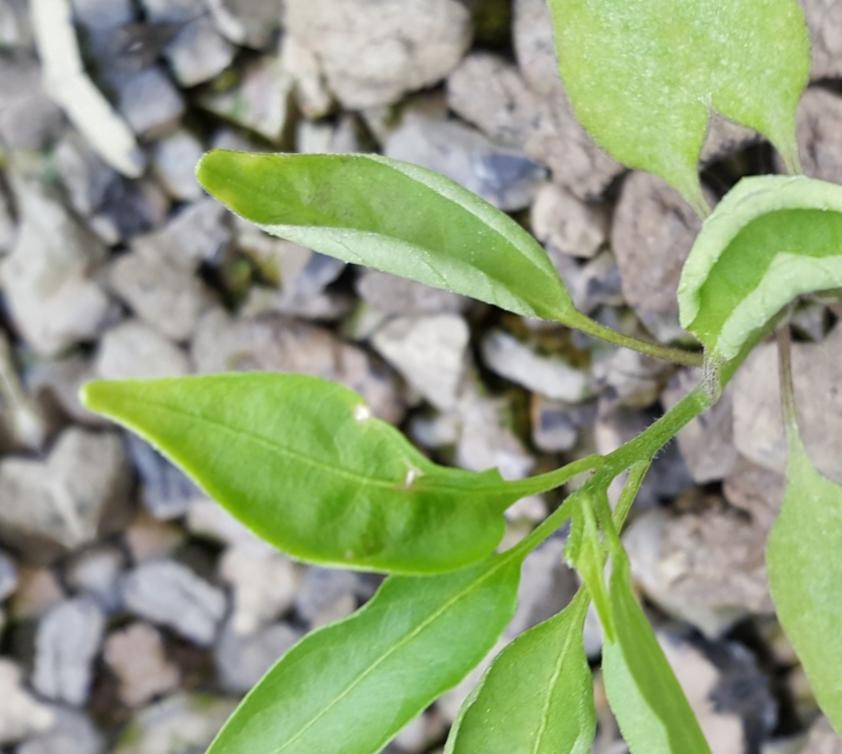Tomato leaf: (47, 216, 532, 697), (178, 29, 602, 463), (135, 468, 629, 754), (460, 0, 745, 238), (706, 416, 842, 667)
